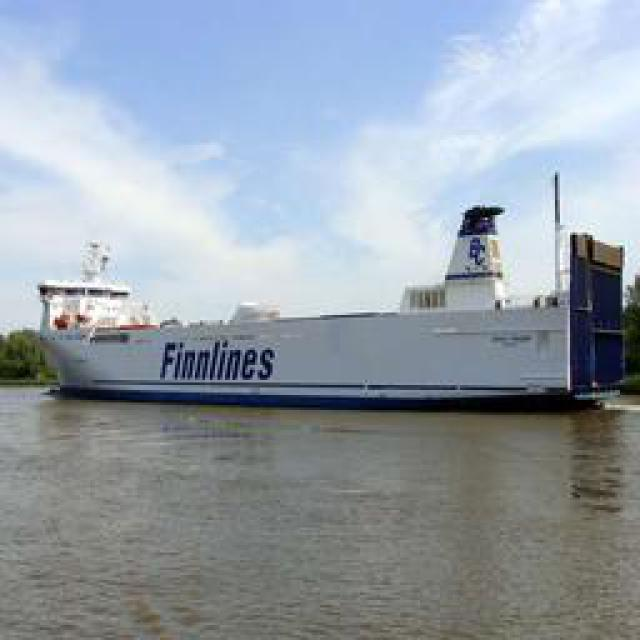Ship: (33, 191, 628, 411)
